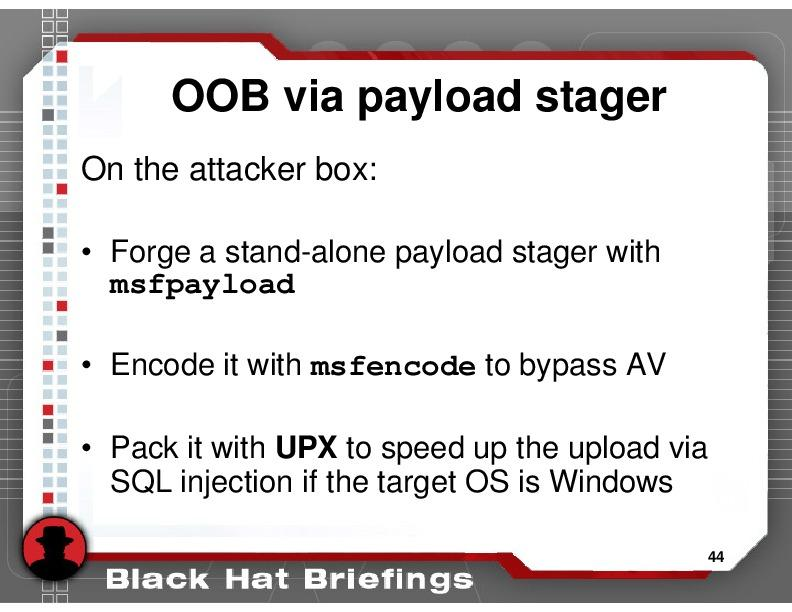paragraph: (76, 143, 730, 520)
subtitle: (101, 562, 479, 602)
title: (166, 64, 681, 125)
